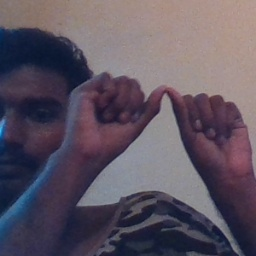A: (105, 71, 229, 167)
